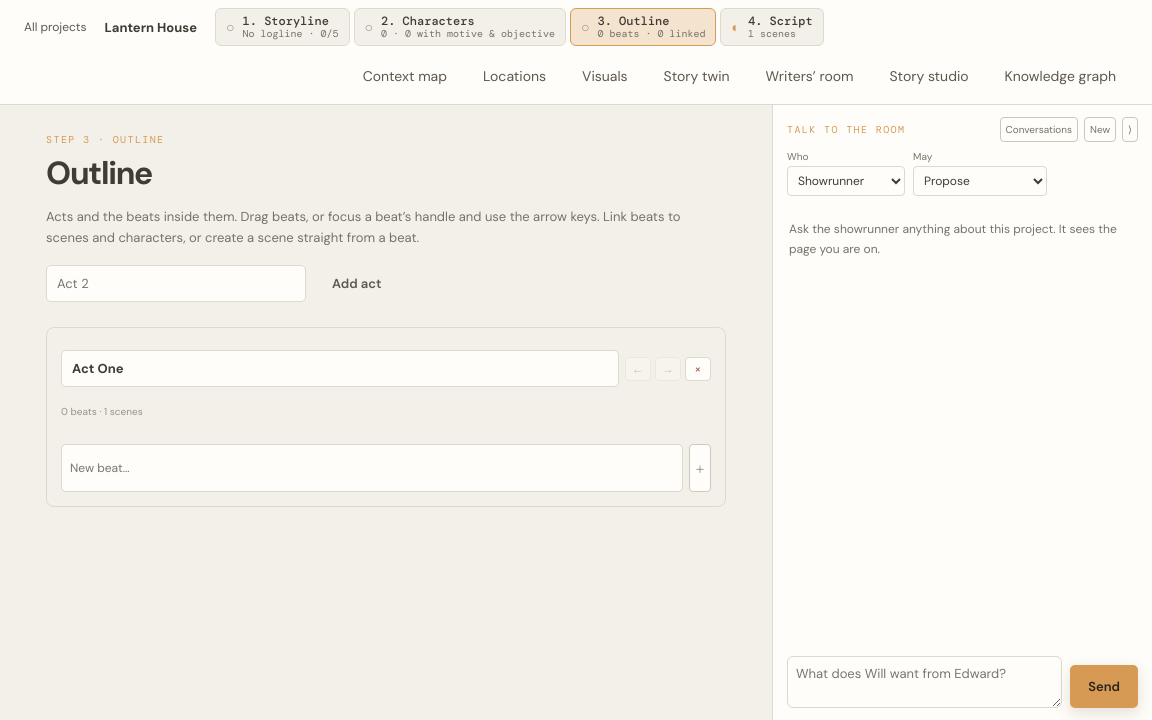
ChatDock › collapses and stays collapsed
Click the button named "Collapse chat" at [1130, 130], box [1122,117,1138,142]
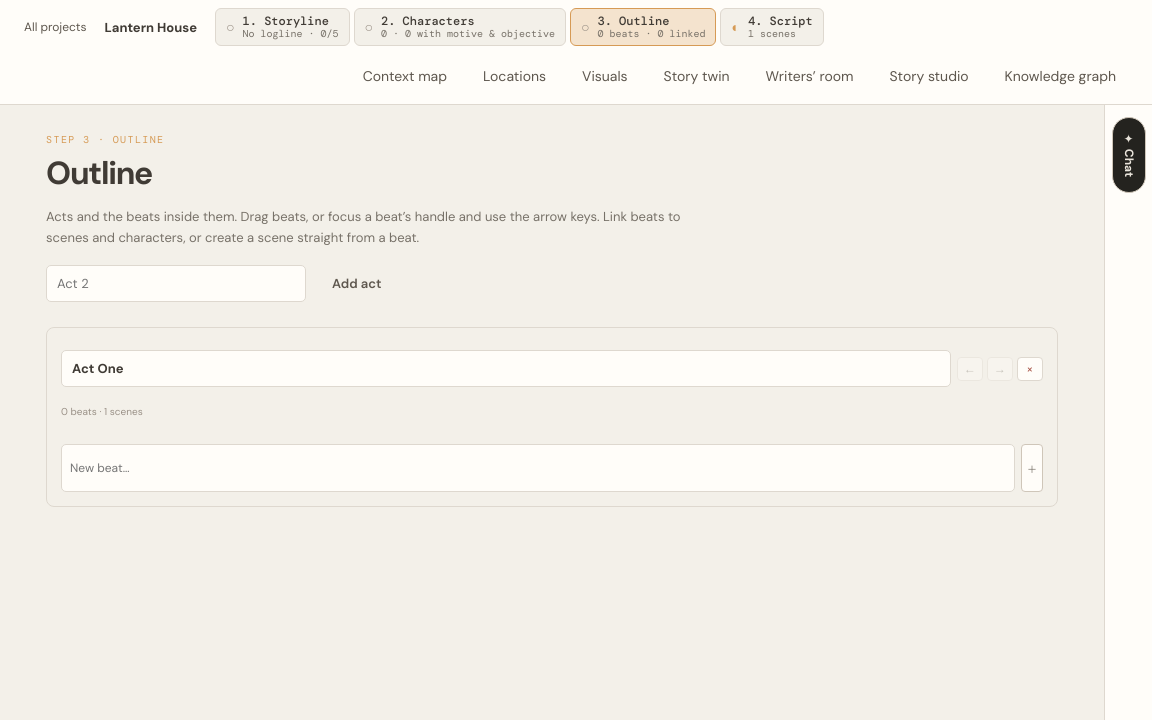
Click the button "✦ Chat" at [1128, 155], box [1112,117,1146,193]
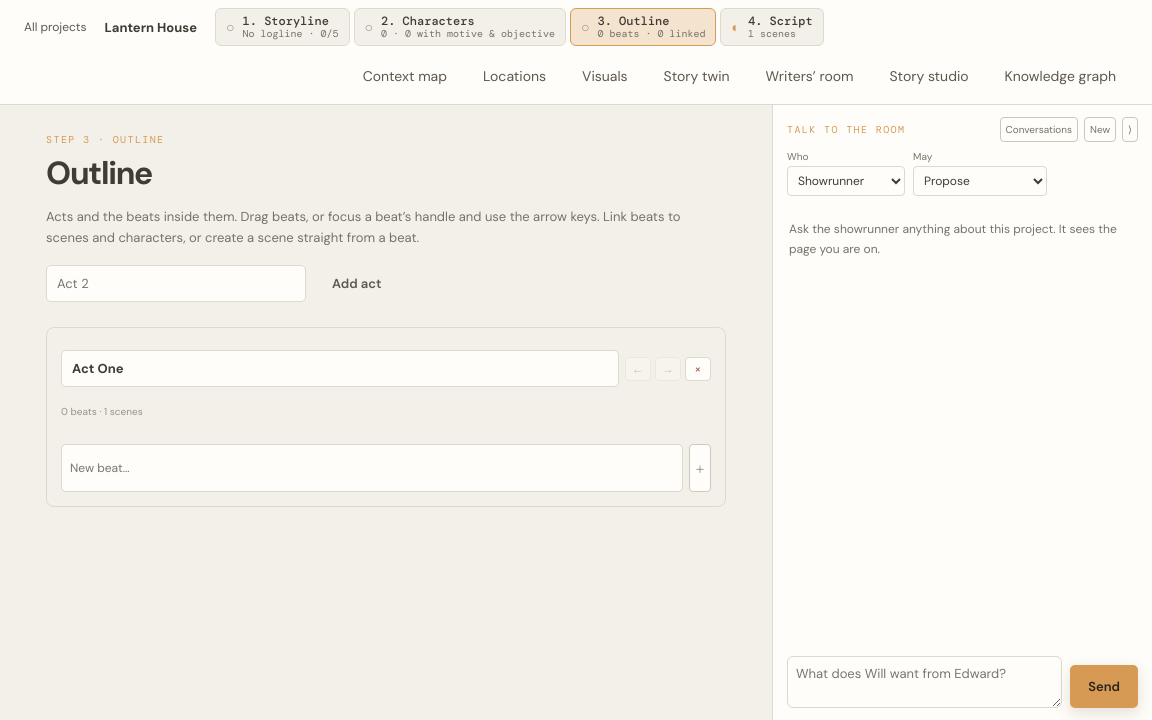
Result: the text box named "Message the room" is shown at [787,656,1062,708]
